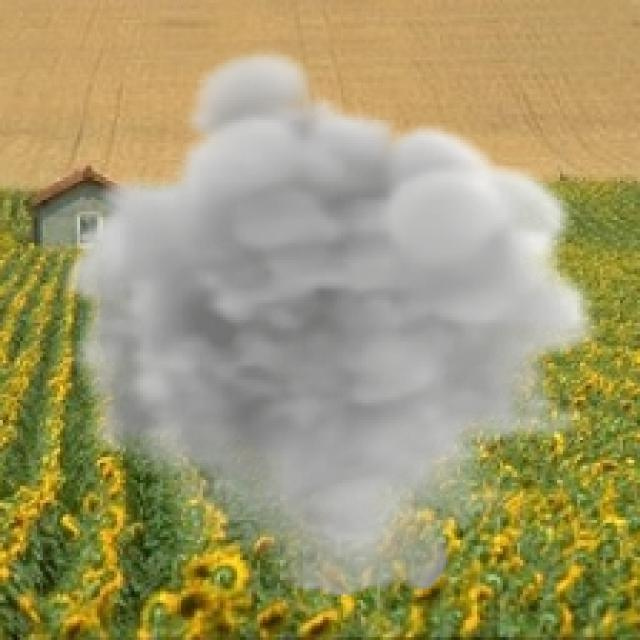Smoke: (60, 43, 603, 600)
